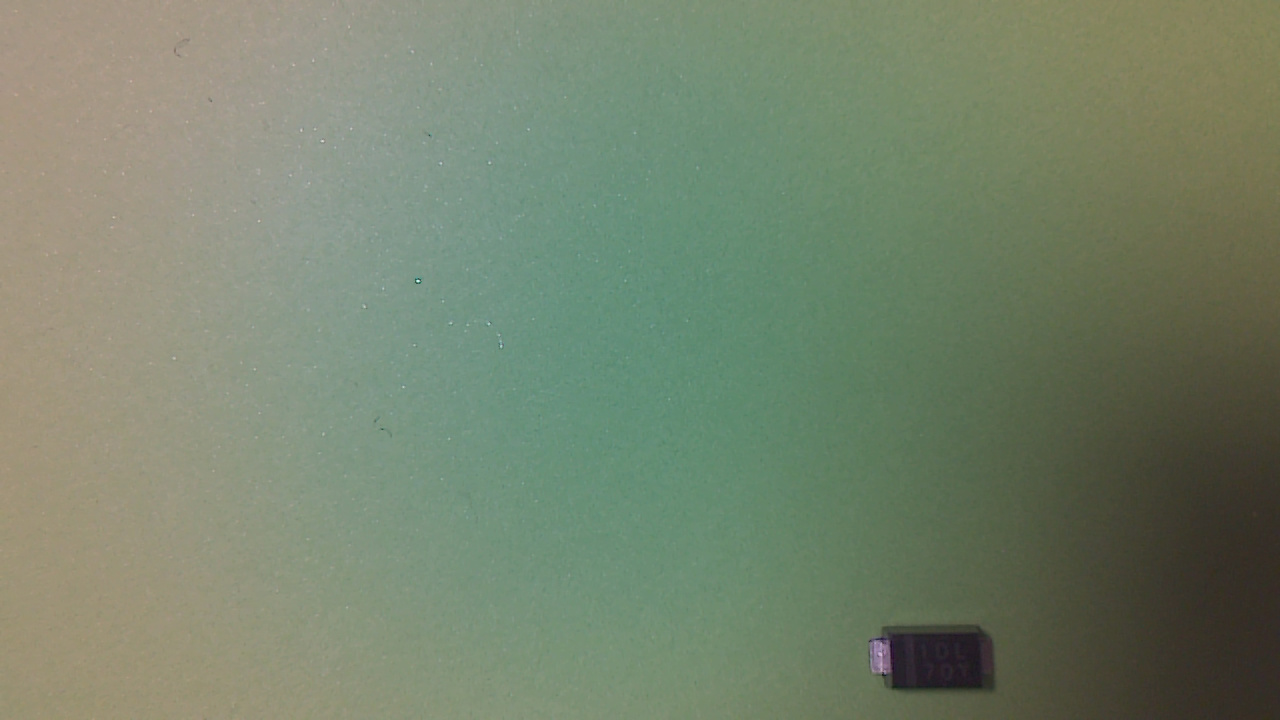Diode: (869, 625, 1002, 701)
